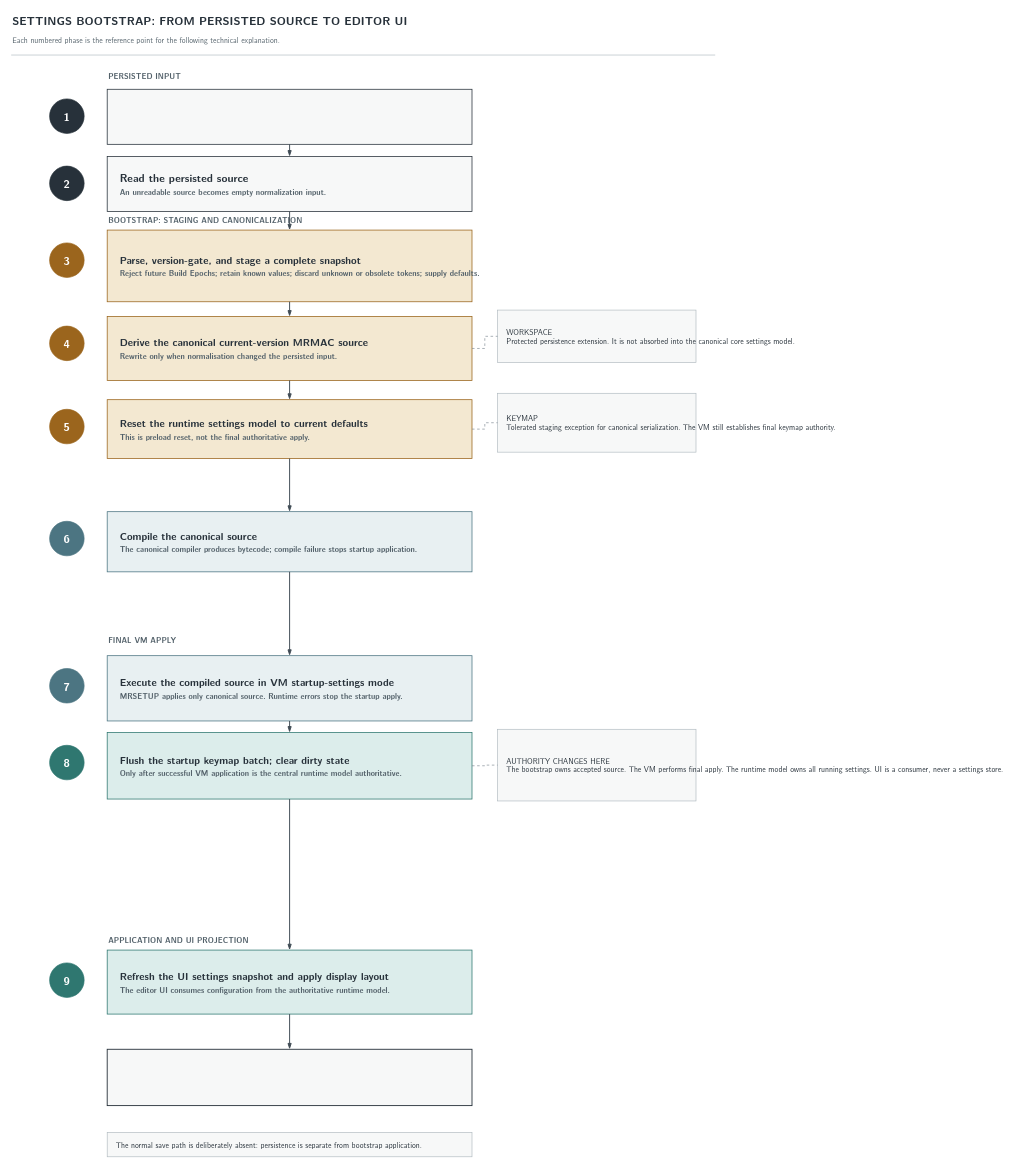
Image size: 1015x1168. Some labels were removed from this diagram. The centre of each missing label's shape, as x and y in pixels:
EDITOR UI TVision projection of the configured application state: pixel 289 1077
Ensure a settings source exists Missing file: create current defaults.: pixel 289 116
